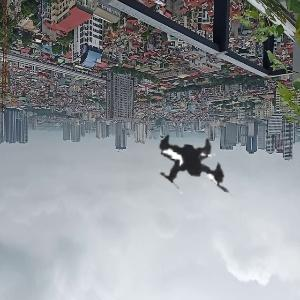drone: (80, 83, 291, 294)
